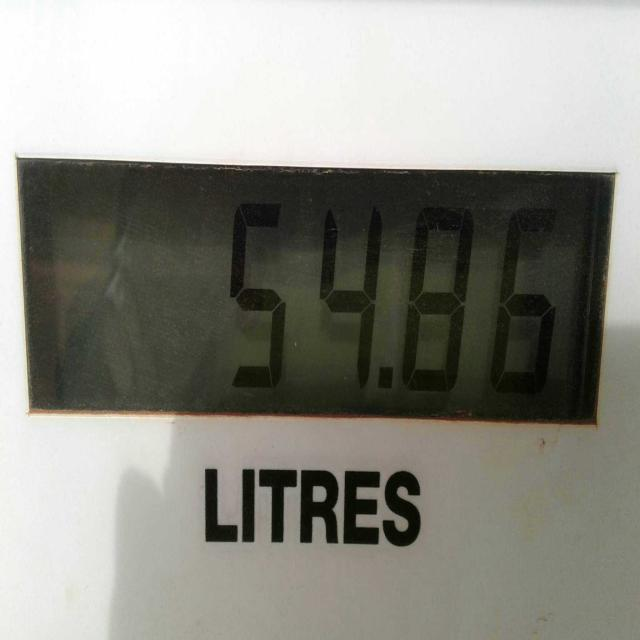.: (375, 364, 394, 393)
4: (320, 207, 379, 389)
5: (228, 202, 287, 394)
6: (494, 208, 561, 390)
8: (406, 205, 476, 392)
